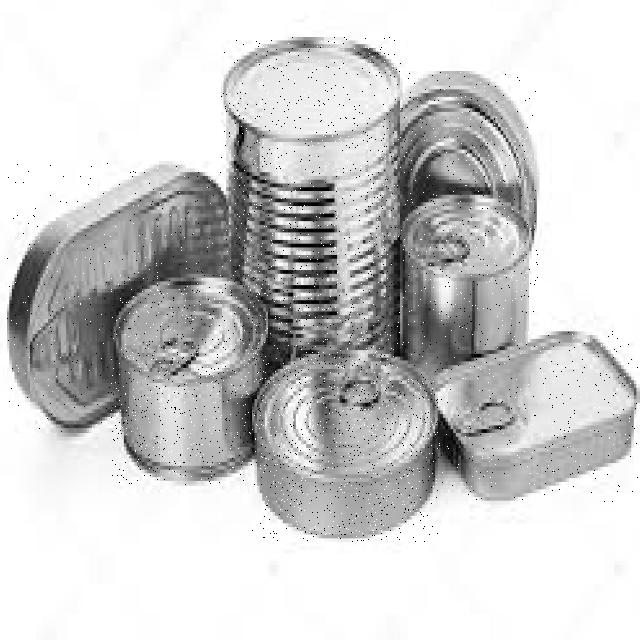metal: (222, 38, 402, 379), (8, 162, 234, 432), (395, 71, 539, 379), (253, 347, 438, 542), (439, 332, 639, 504), (111, 275, 268, 485)
